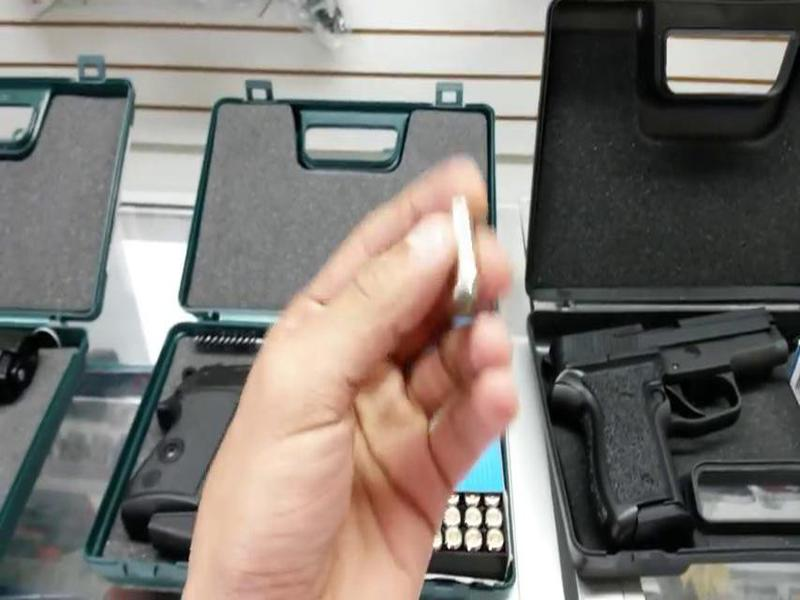Pistola: (547, 279, 800, 559)
